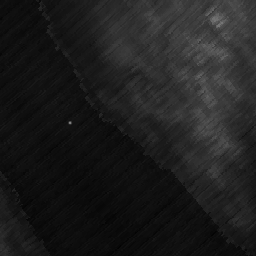Target: (67, 119, 73, 125)
